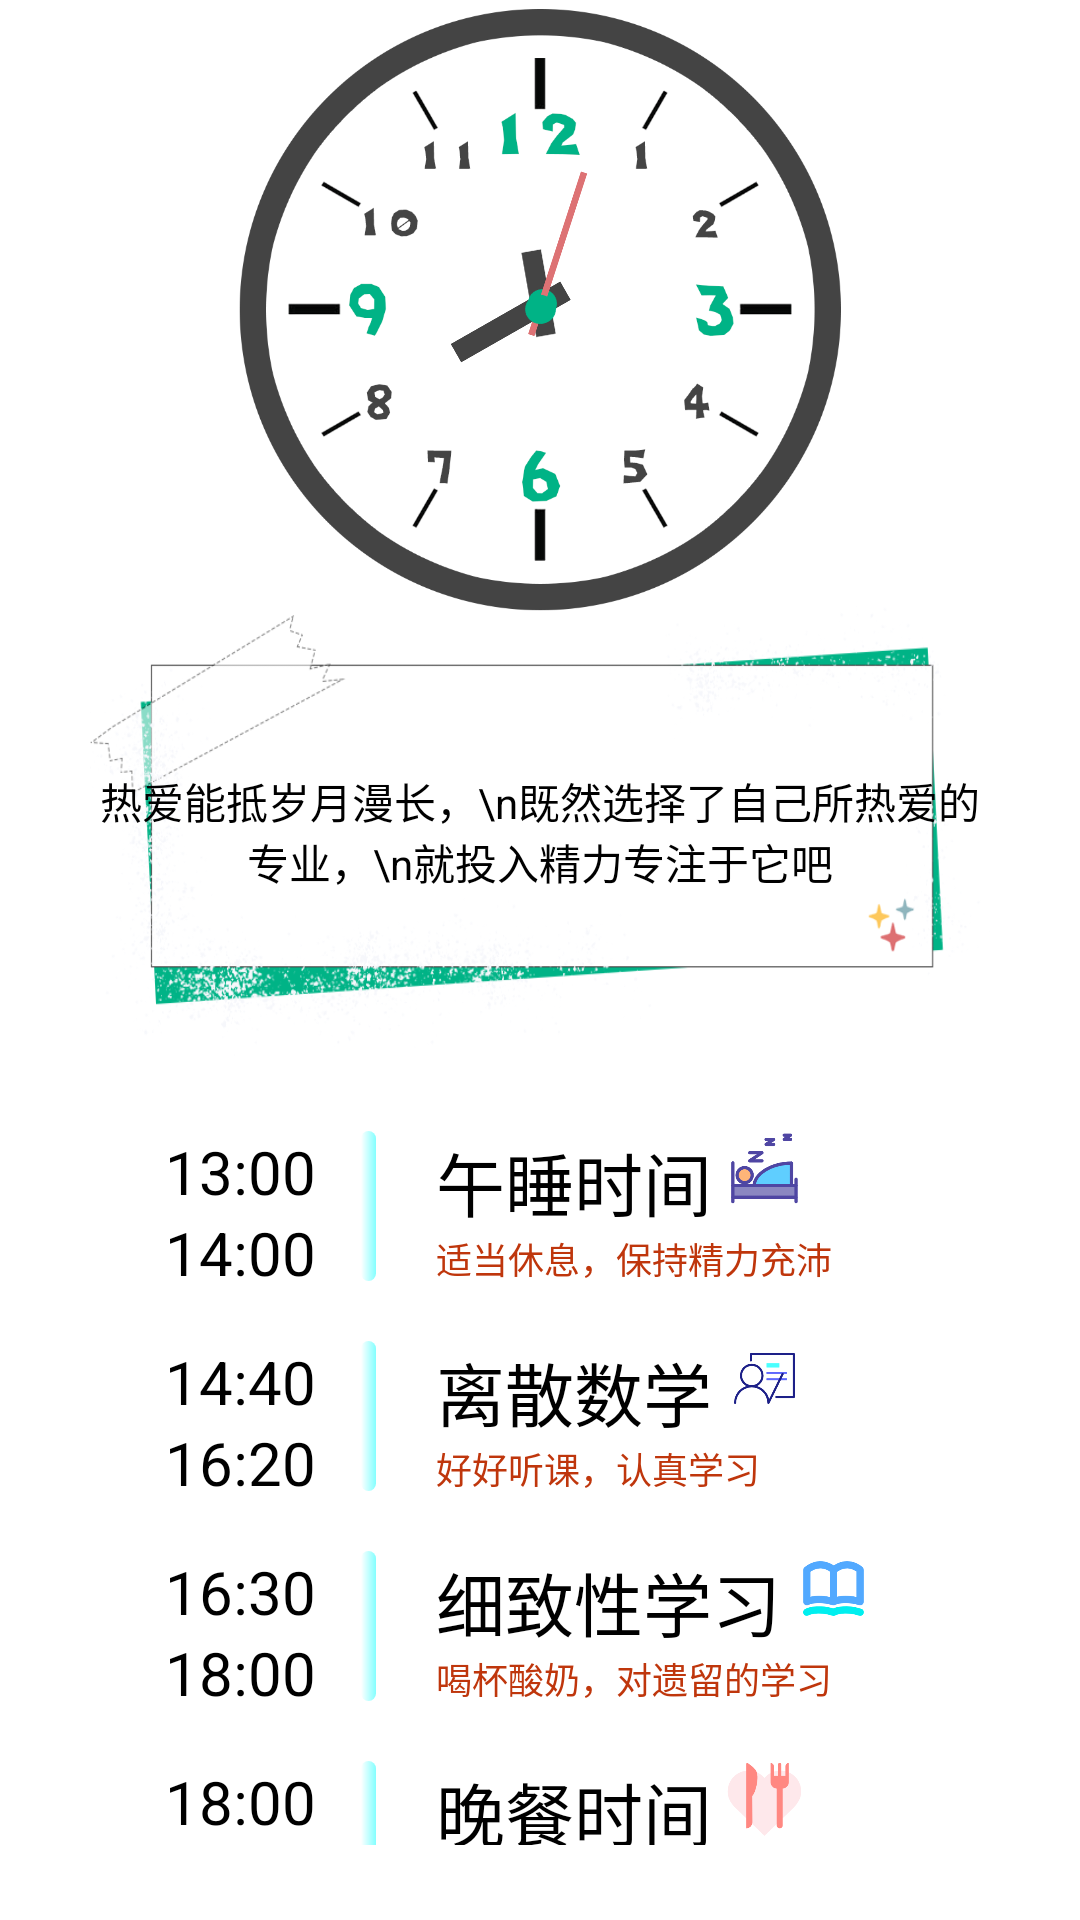

Icon bounding boxes for this 1080*1920 phone screenshot, format region(x1, y1, x2, y2):
eating: region(746, 1763, 789, 1829)
learning center: region(803, 1561, 864, 1616)
sleep: region(731, 1133, 798, 1203)
